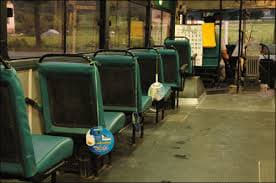seat: (37, 51, 129, 139)
